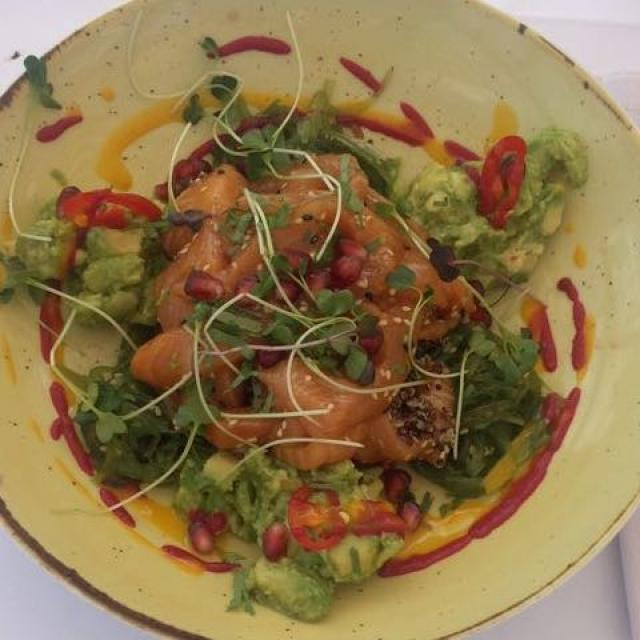avocado: (10, 98, 614, 630)
salmon: (143, 147, 460, 464)
sprouts: (41, 43, 551, 498)
